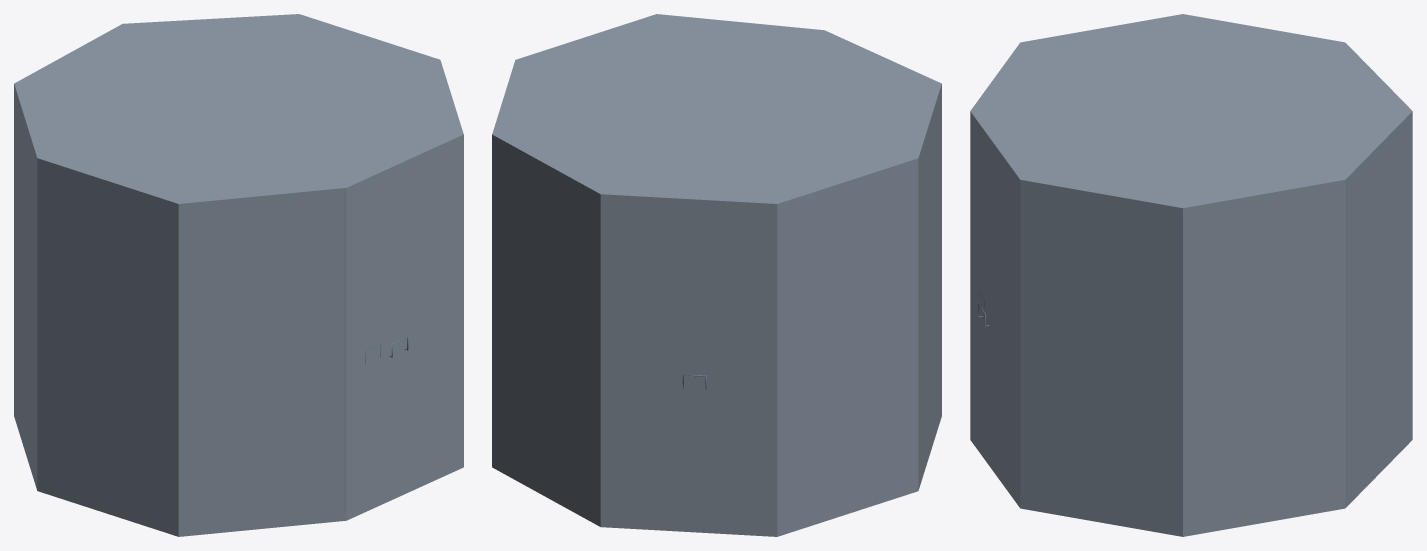
3 renders of one model, left to right at view 1: azimuth 30°, elevation 25°; view 2: azimuth 150°, elevation 25°; view 3: azimuth 270°, elevation 25°, orthographic.
Parts seen in each view (by area): view 1: block; view 2: block; view 3: block.
Boxes of the visible parts, x1,y1,x2,y2 form: block: (14, 14, 463, 536); block: (492, 14, 941, 536); block: (970, 14, 1412, 536).
Bounding box in the file's own units: 5 × 3.95 × 4.81.
